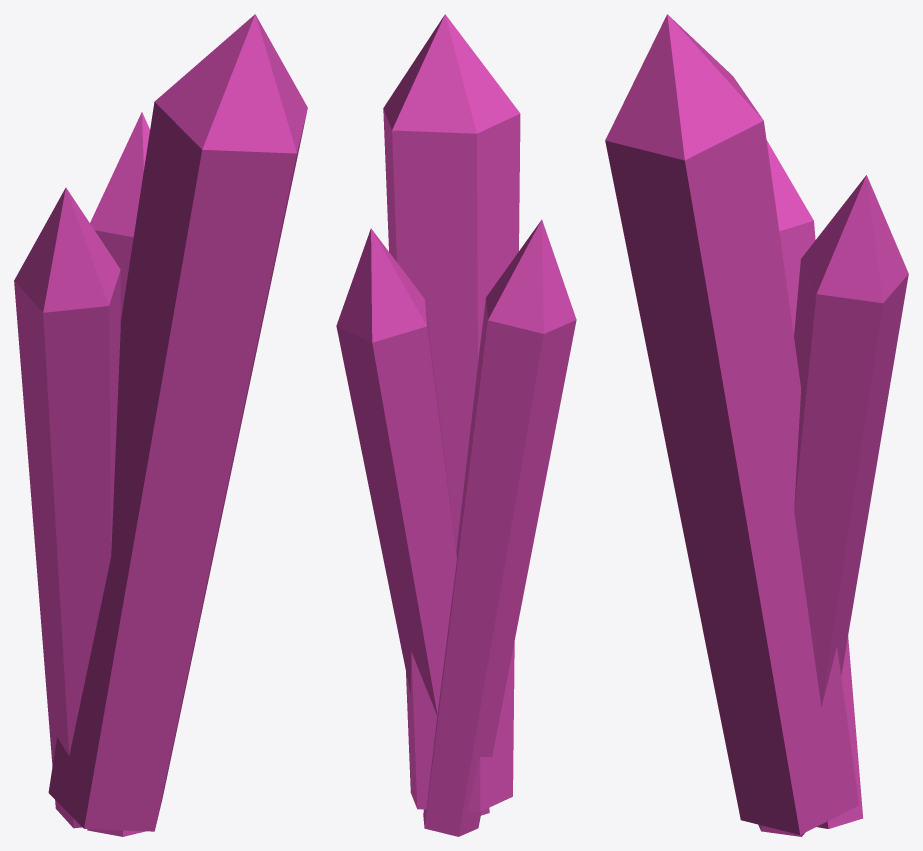
File: small_crystals_4_1.fbx
3 views of the same model, side by side, from view 1: azimuth 30°, elevation 25°; view 2: azimuth 150°, elevation 25°; view 3: azimuth 270°, elevation 25° (orthographic). The views are drawn at different scales.
Visible parts, largest first — view 1: small crystals.034; view 2: small crystals.034; view 3: small crystals.034.
Boxes of the visible parts, <box> form: small crystals.034: <box>14,14,307,836</box>; small crystals.034: <box>336,14,576,836</box>; small crystals.034: <box>605,14,908,836</box>.
Bounding box in the file's own units: 88.77 × 295 × 95.57.
